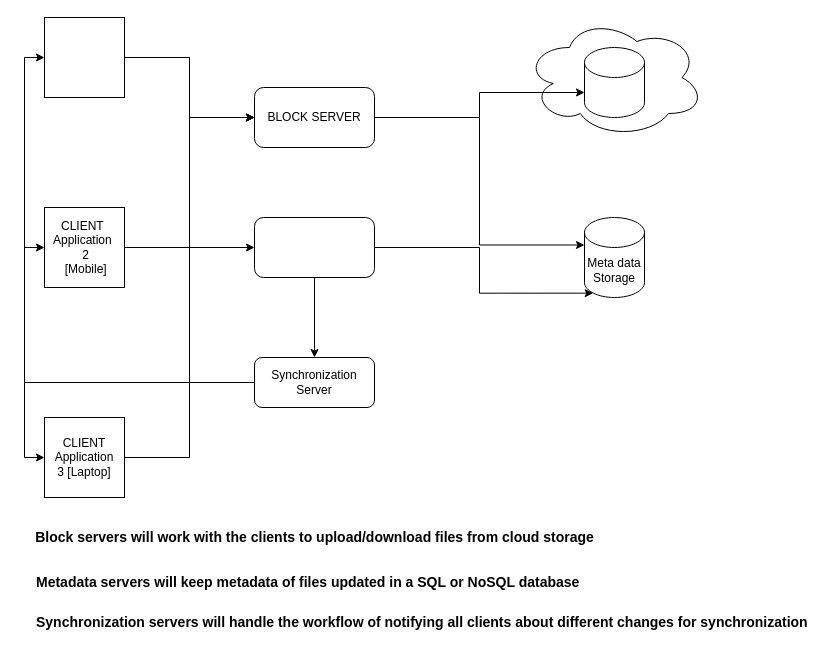
Some shapes in this 832 by 655 pixel diagram are drawn without their labels. Each missing label, with the box of its shape:
CLIENT Application 1 [Desktop]: (44, 16, 124, 98)
Cloud Storage: (584, 46, 644, 118)
Metadata Server: (254, 216, 374, 278)
